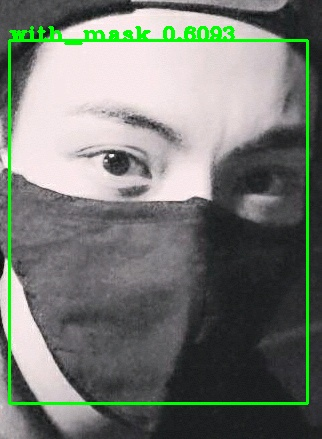with_mask: (12, 25, 322, 381)
